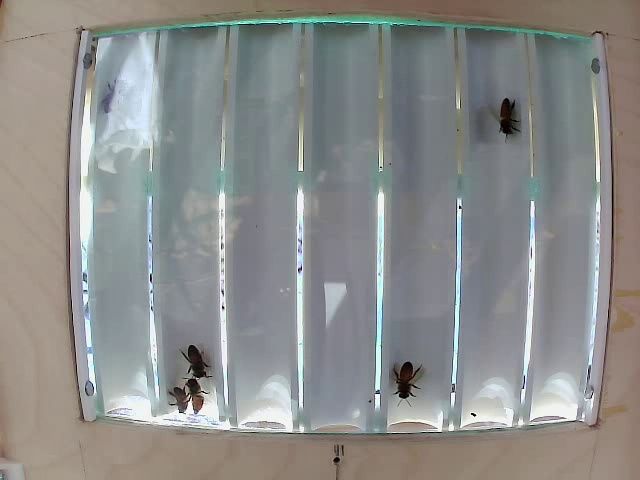bee: (177, 333, 226, 384), (386, 356, 424, 414), (492, 88, 522, 156), (182, 370, 210, 413), (163, 380, 185, 411)
